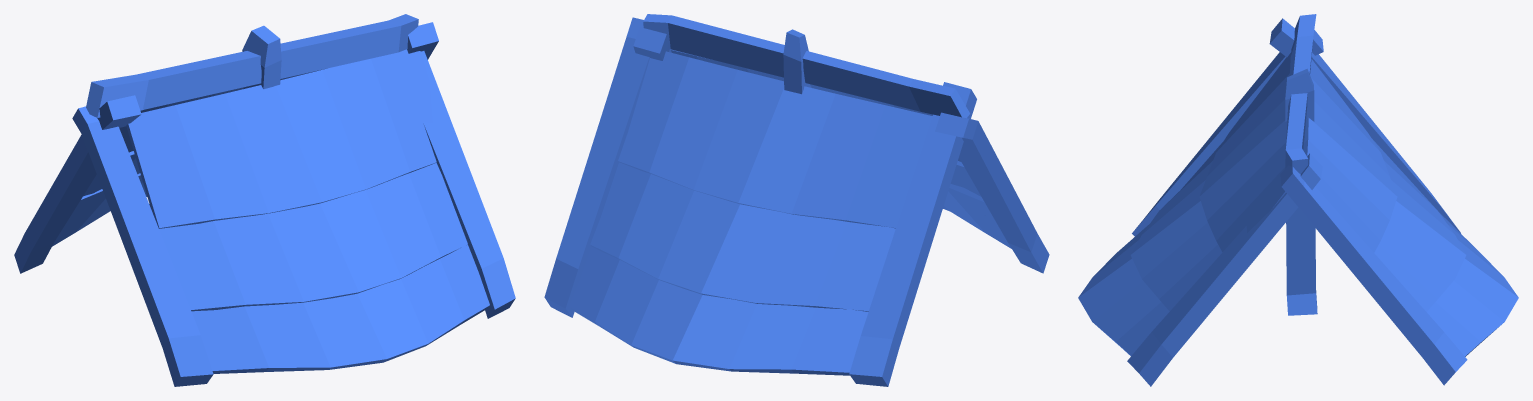
File: Tent.fbx
3 views of the same model, side by side, from view 1: azimuth 30°, elevation 25°; view 2: azimuth 150°, elevation 25°; view 3: azimuth 270°, elevation 25° (orthographic). The views are drawn at different scales.
Parts seen in each view (by area): view 1: Tent; view 2: Tent; view 3: Tent.
Boxes of the visible parts, x1,y1,x2,y2 form: Tent: (14,14,515,386); Tent: (544,14,1049,386); Tent: (1078,14,1518,386).
Bounding box in the file's own units: 271 × 200 × 324.
